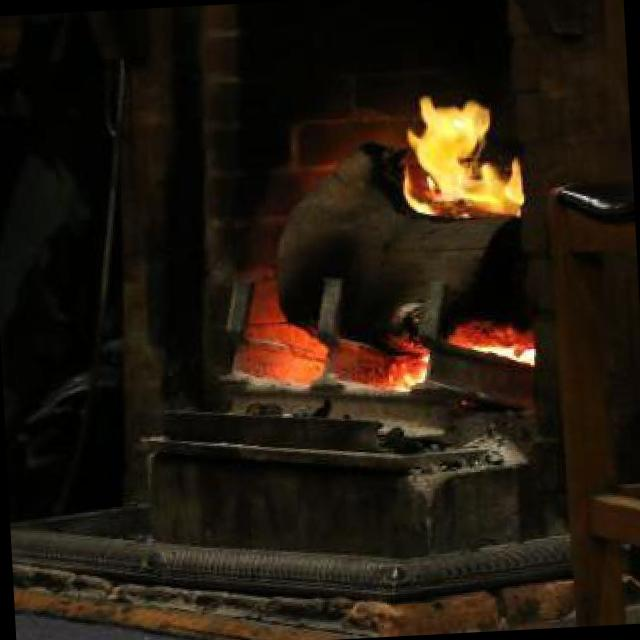Fire: (370, 87, 533, 231)
